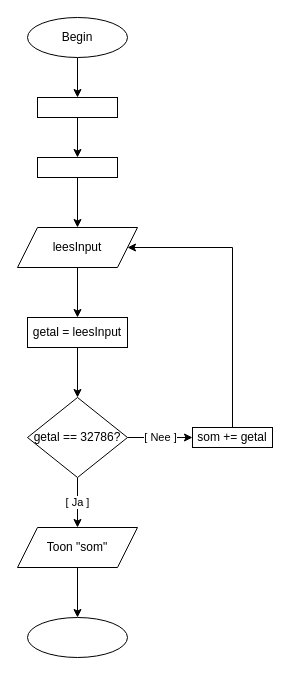
Some shapes in this 290 by 675 pixel diagram are drawn without their labels. Here are the shapes that lost their labels. From the top down, the centre of each, then its label:
At pixel 77 107: "getal = 0".
At pixel 77 167: "som = 0".
At pixel 77 637: "Einde".
